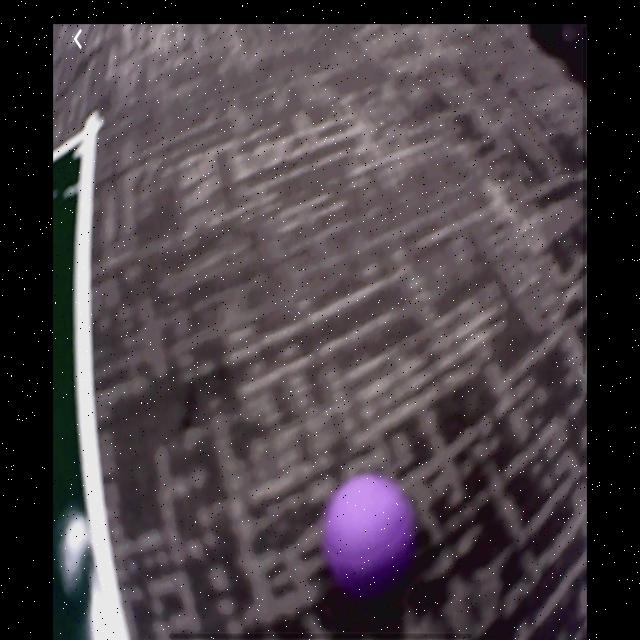ball: (321, 472, 418, 598)
